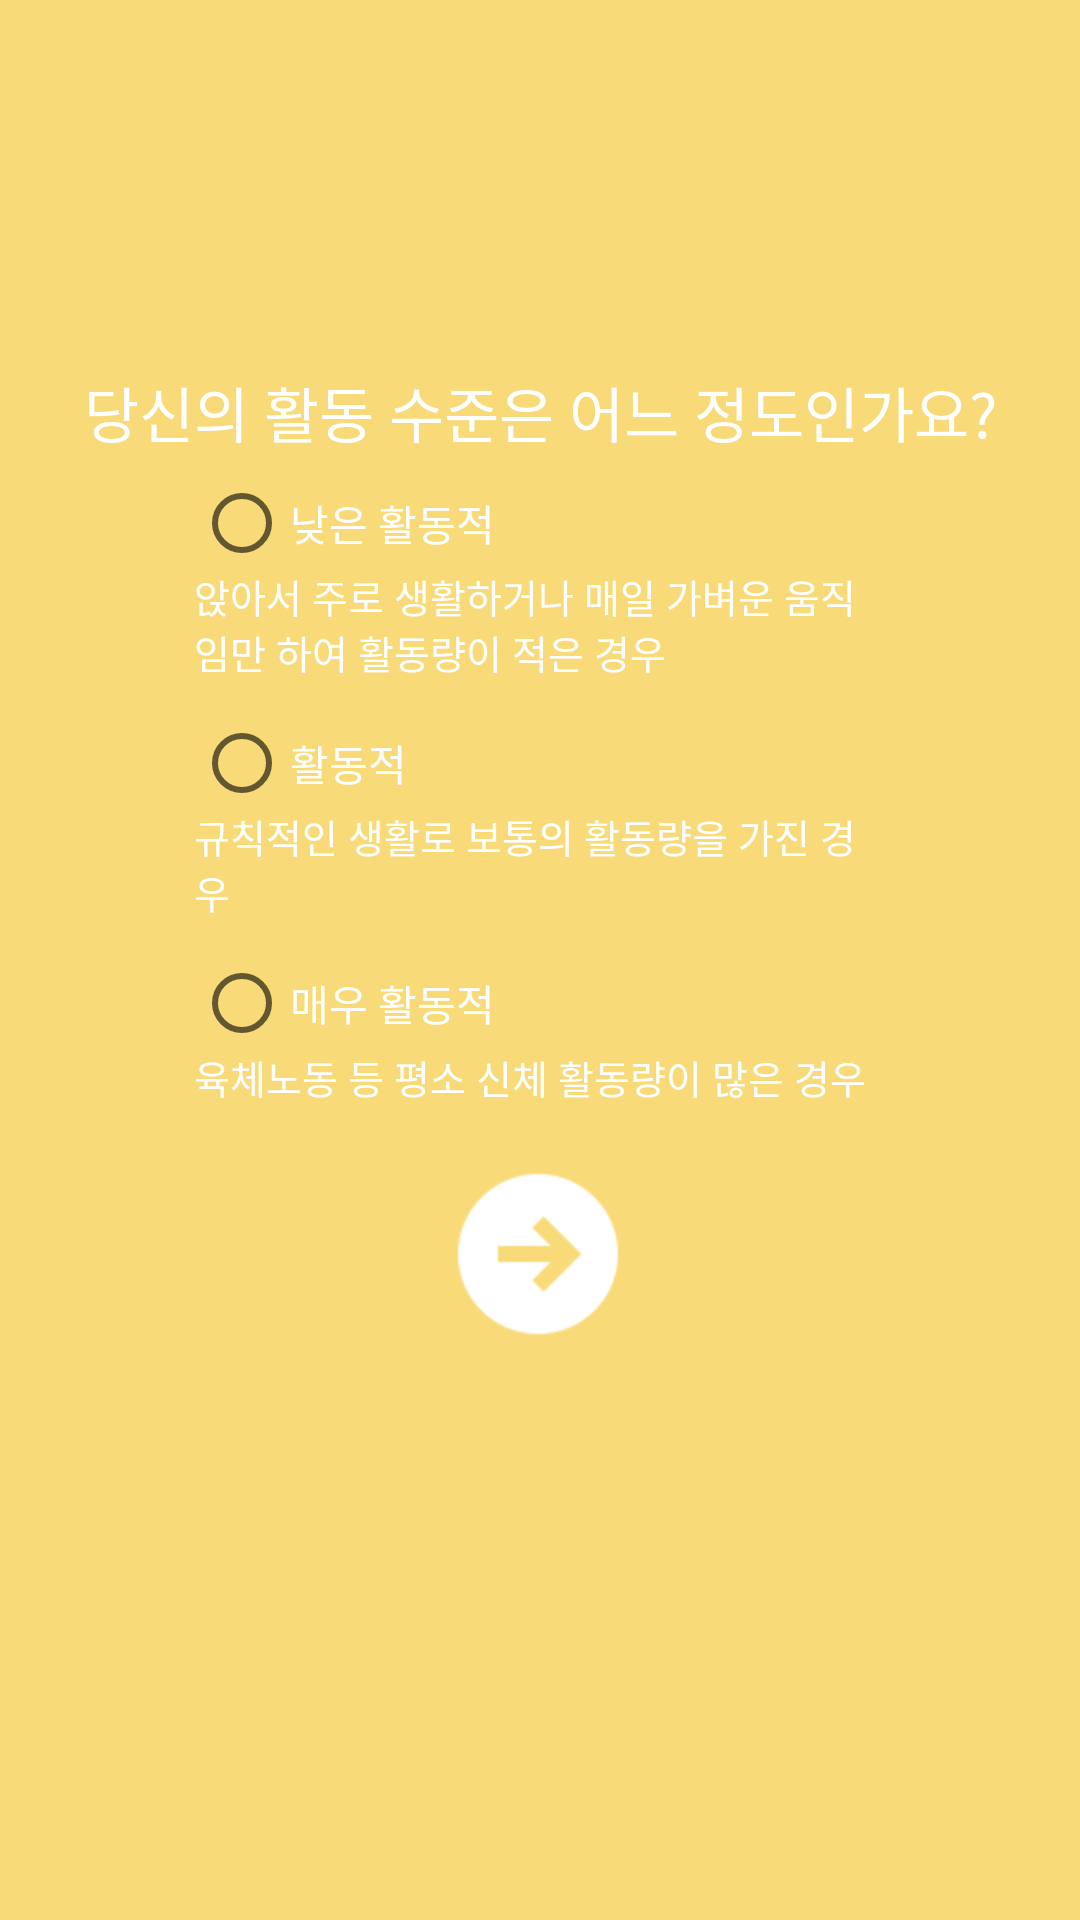

Where to tap for icons on this 1080×1920 app screen, as (x=x, y=y):
arrow: (x=538, y=1254)
